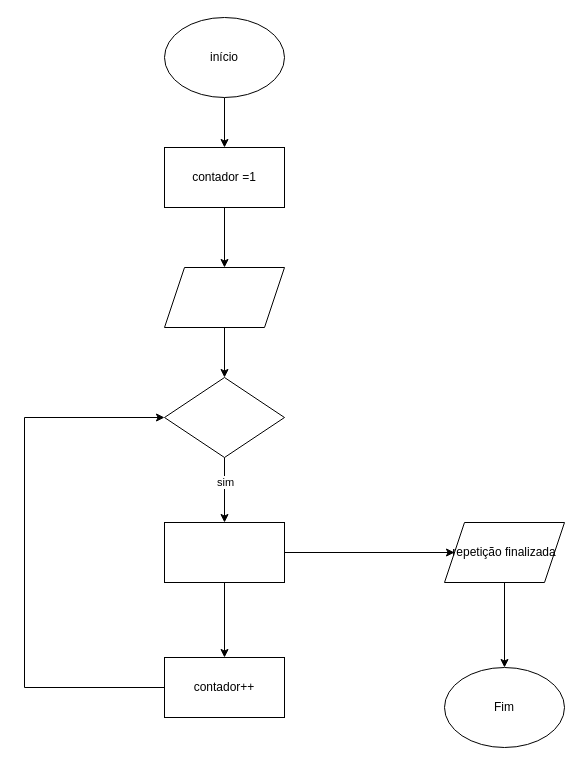
The diagram is 582 pixels wide and 765 high, and some of its shapes have lost their labels. The shapes that lost their labels are listed below. From the top down, each one's box as (x1, y1, x2, y2) in pixels, then its label:
(164, 266, 284, 328): leia nome
(164, 376, 284, 458): contador <=10
(164, 522, 284, 582): escreva nome tela
